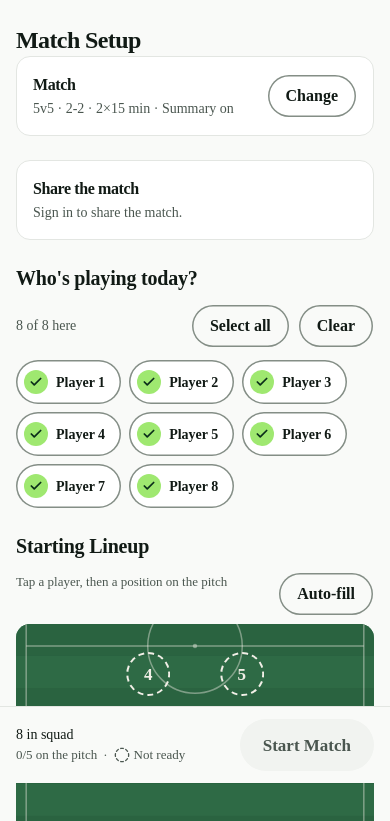
it: MatchSetupManager attendance and preselection (U9) › deselecting a player marks them away and removes them from the squad and the pitch
This screenshot has width=390, height=821.
Expected: the heading "Who's playing today?" is shown, [16, 267, 198, 289]
Click the button "Auto-fill" at (326, 594), box [278, 572, 374, 616]
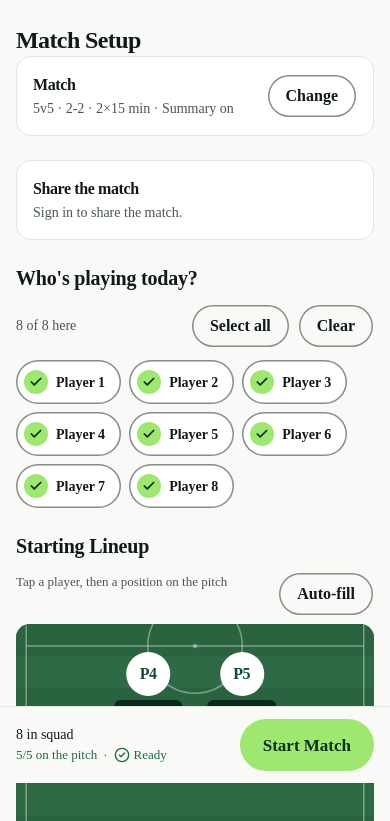
Expected: the button "Start Match" is enabled, [240, 719, 374, 771]
Click the button "Player 1" at (69, 382), box [16, 360, 121, 404]
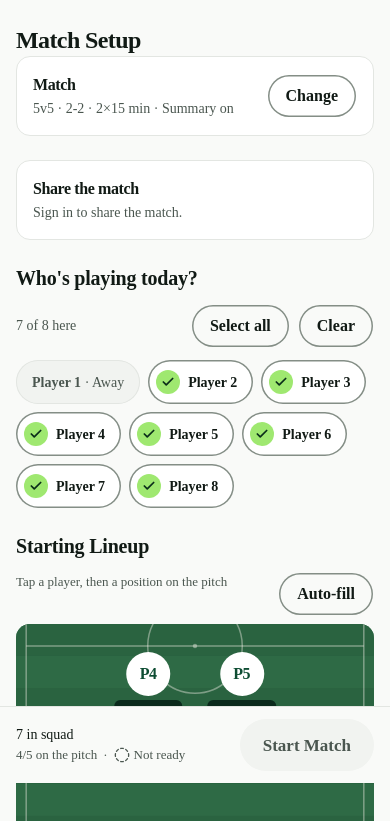
Expected: the button "Start Match" is disabled, [240, 719, 374, 771]
